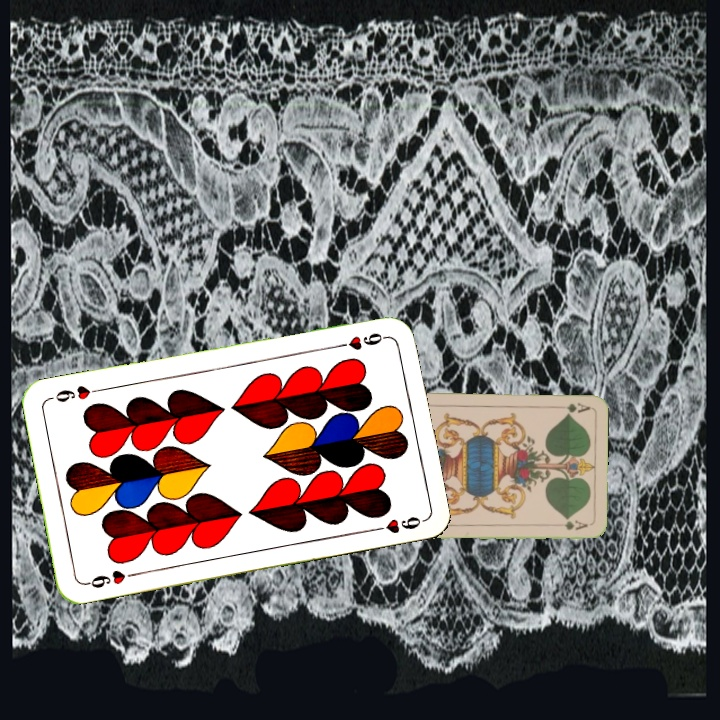GA: (552, 398, 592, 415)
H9: (331, 328, 390, 353), (81, 566, 139, 591)
